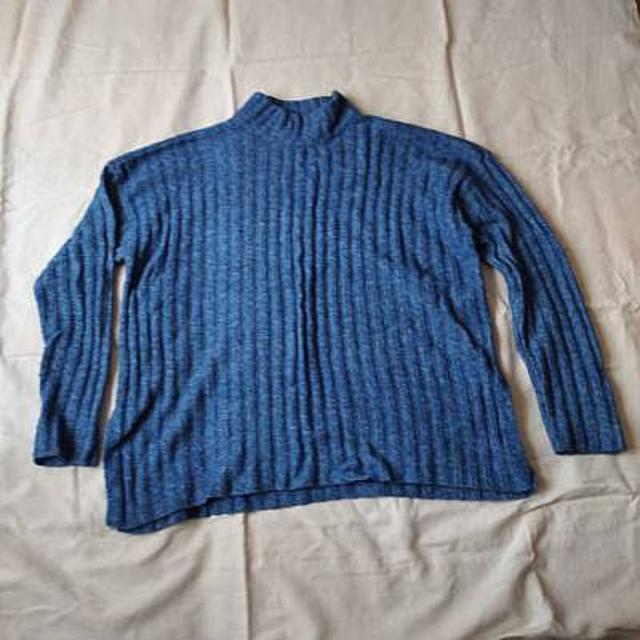SHIRT: (21, 76, 640, 541)
